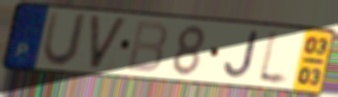8: (169, 23, 208, 78)
B: (124, 19, 170, 75)
J: (221, 30, 260, 81)
L: (254, 27, 293, 90)
U: (39, 9, 91, 70)
V: (88, 13, 131, 72)
